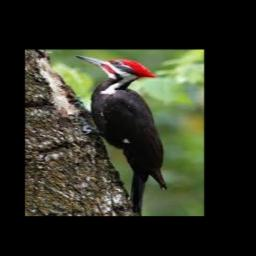Woodpecker: (74, 55, 166, 216)
